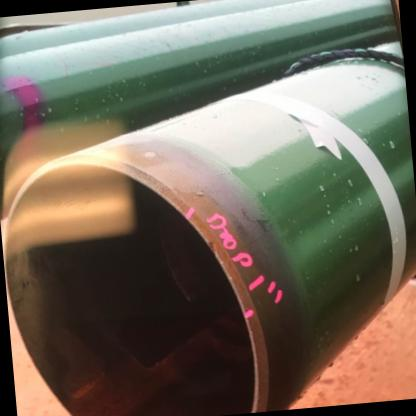Bevel: (205, 233, 221, 257)
